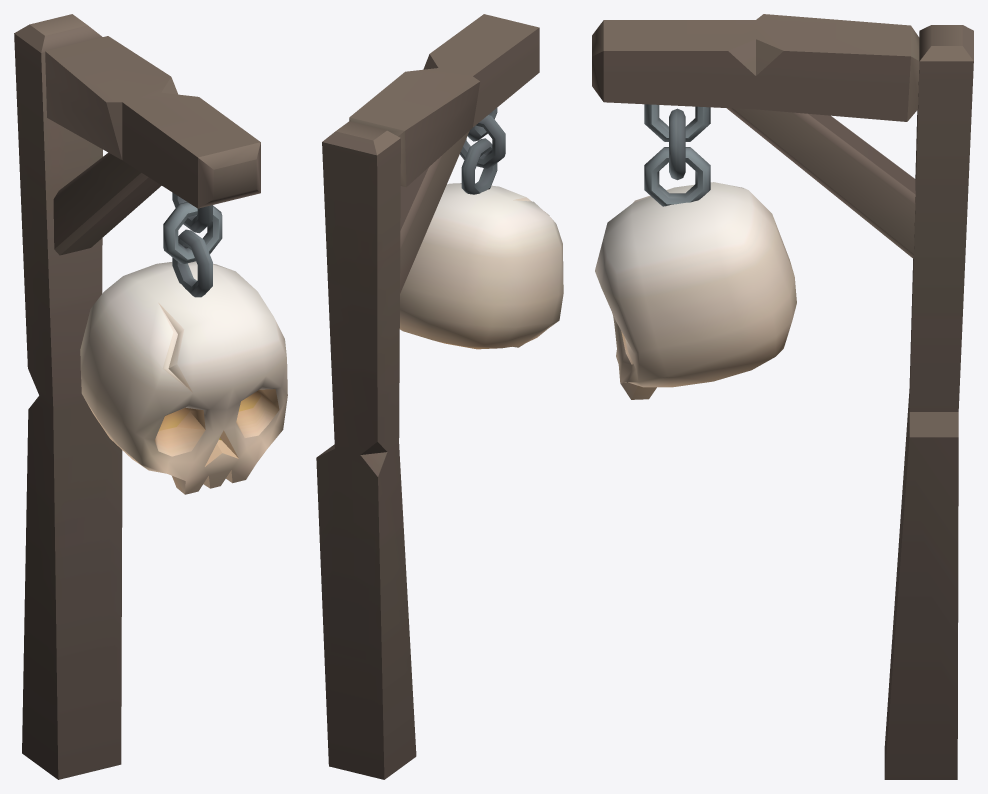
The model's file is post_skull.glb.
3 renders of one model, left to right at view 1: azimuth 30°, elevation 25°; view 2: azimuth 150°, elevation 25°; view 3: azimuth 270°, elevation 25°, orthographic. The views are drawn at different scales.
Visible parts, largest first — view 1: Cube.572, post_skull_skull; view 2: Cube.572, post_skull_skull; view 3: Cube.572, post_skull_skull.
Part boxes in pixels (x1=…): Cube.572: x1=14, y1=14, x2=260, y2=779; post_skull_skull: x1=80, y1=192, x2=287, y2=494; Cube.572: x1=316, y1=14, x2=539, y2=779; post_skull_skull: x1=399, y1=108, x2=563, y2=349; Cube.572: x1=592, y1=14, x2=973, y2=779; post_skull_skull: x1=595, y1=104, x2=796, y2=399.
Bounding box in the file's own units: 0.809 × 3.3 × 1.57.
Materials: 1 (1 with a texture image).
